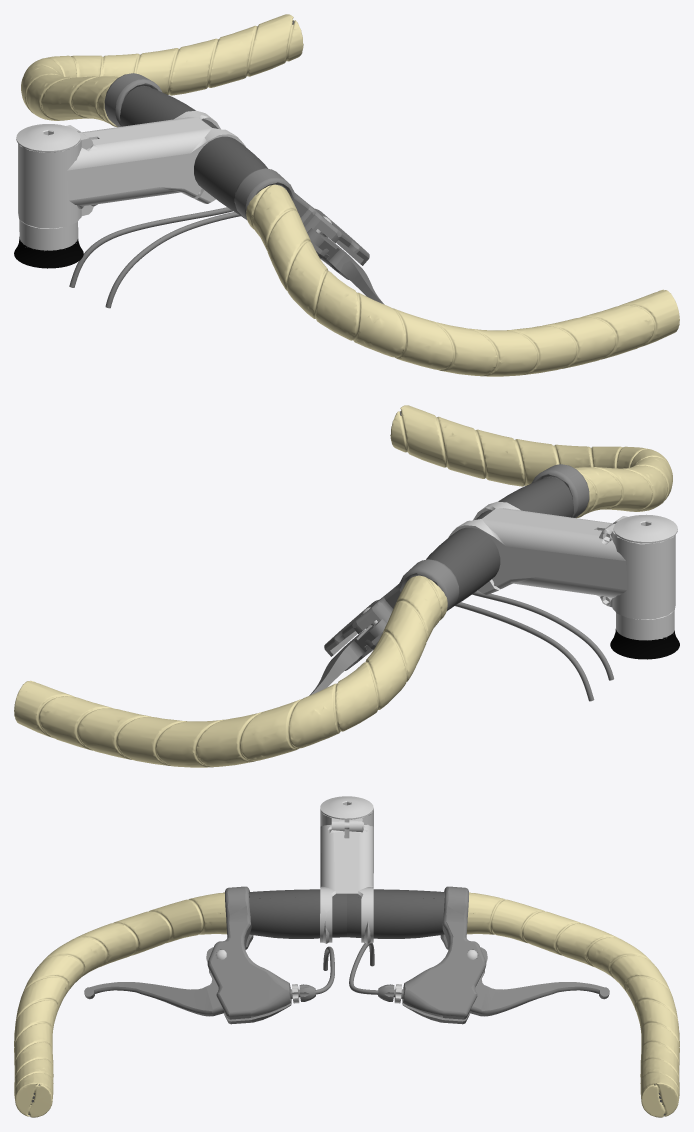
The model's file is Mango_Handle_Bullhorn.glb.
The picture shows the model from 3 angles, top to bottom: view 1: azimuth 30°, elevation 25°; view 2: azimuth 150°, elevation 25°; view 3: azimuth 270°, elevation 25°; orthographic projection. The views are drawn at different scales.
Visible parts, largest first — view 1: no_transformations (×6); view 2: no_transformations (×6); view 3: no_transformations (×5).
Part boxes in pixels (left/top/right/bottom): no_transformations (×6): left=14, top=14, right=679, bottom=376; no_transformations (×6): left=14, top=405, right=679, bottom=767; no_transformations (×5): left=14, top=796, right=679, bottom=1117.
Bounding box in the file's own units: 291 × 107 × 436.
